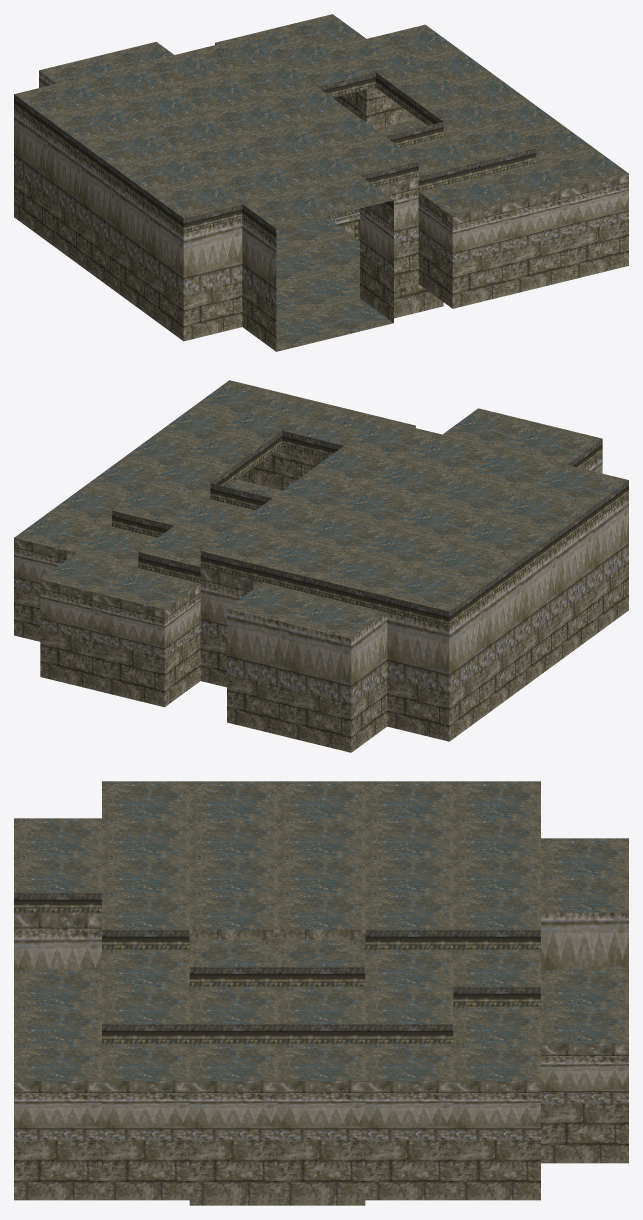
The model's file is room38.obj.
3 views of the same model, one above another, from view 1: azimuth 30°, elevation 25°; view 2: azimuth 150°, elevation 25°; view 3: azimuth 270°, elevation 25° (orthographic). The views are drawn at different scales.
Visible parts, largest first — view 1: 01-Caves.038; view 2: 01-Caves.038; view 3: 01-Caves.038.
Boxes of the visible parts, <box> form: 01-Caves.038: <box>14,14,628,351</box>; 01-Caves.038: <box>14,380,628,752</box>; 01-Caves.038: <box>14,781,628,1205</box>.
Size of the model in its own units: 70 by 30 by 70.
Materials: 1 (1 with a texture image).
